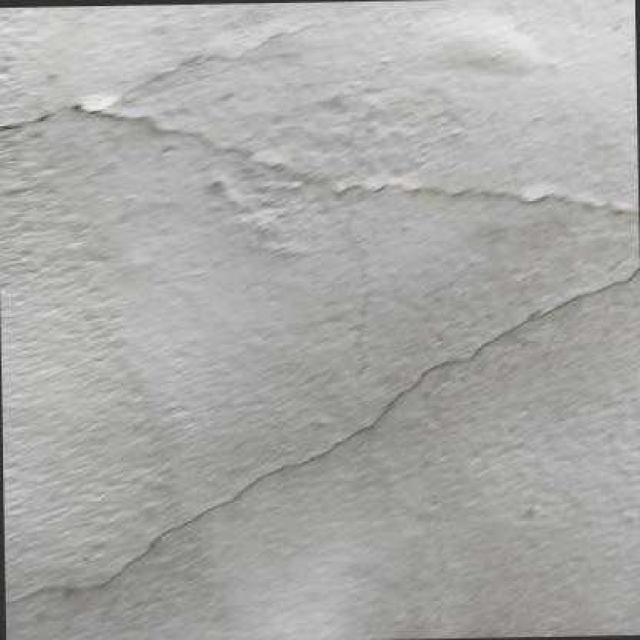D00: (17, 268, 637, 604)
